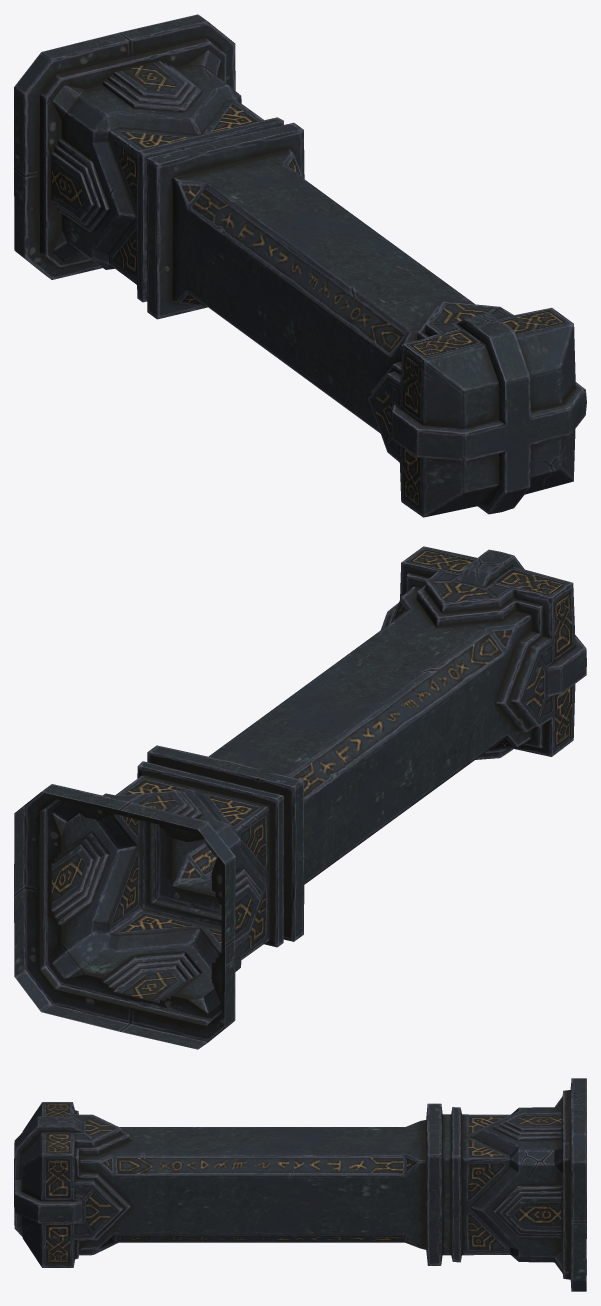
The model's file is StonePillar.obj.
3 renders of one model, top to bottom at view 1: azimuth 30°, elevation 25°; view 2: azimuth 150°, elevation 25°; view 3: azimuth 270°, elevation 25°, orthographic. The views are drawn at different scales.
Visible parts, largest first — view 1: Pillar_01; view 2: Pillar_01; view 3: Pillar_01.
Boxes of the visible parts, bbox=[...] form: Pillar_01: bbox=[14, 14, 586, 517]; Pillar_01: bbox=[14, 546, 586, 1049]; Pillar_01: bbox=[14, 1078, 586, 1291].
Size of the model in its own units: 2.57 by 2.58 by 8.42.
1 material, 1 textured.
